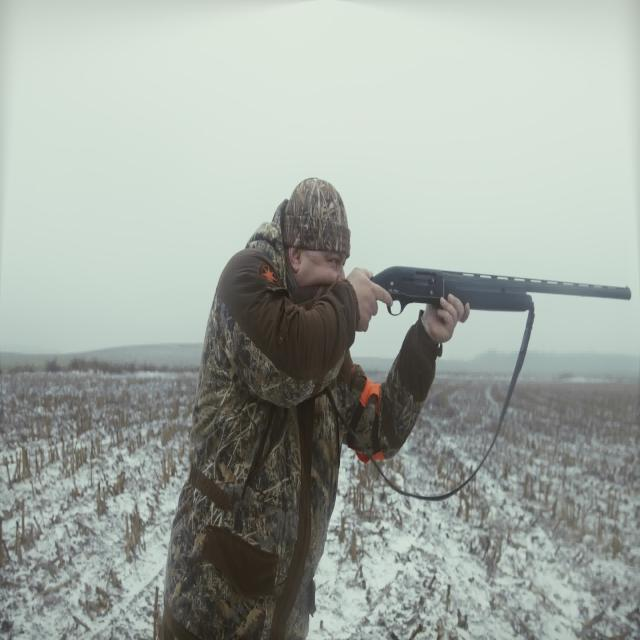poacher: (224, 222, 366, 612)
weapon: (303, 224, 486, 316)
